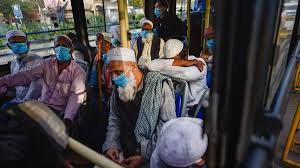mask: (108, 59, 135, 91), (7, 30, 30, 54), (54, 36, 72, 62), (154, 1, 166, 19), (139, 22, 152, 36)
